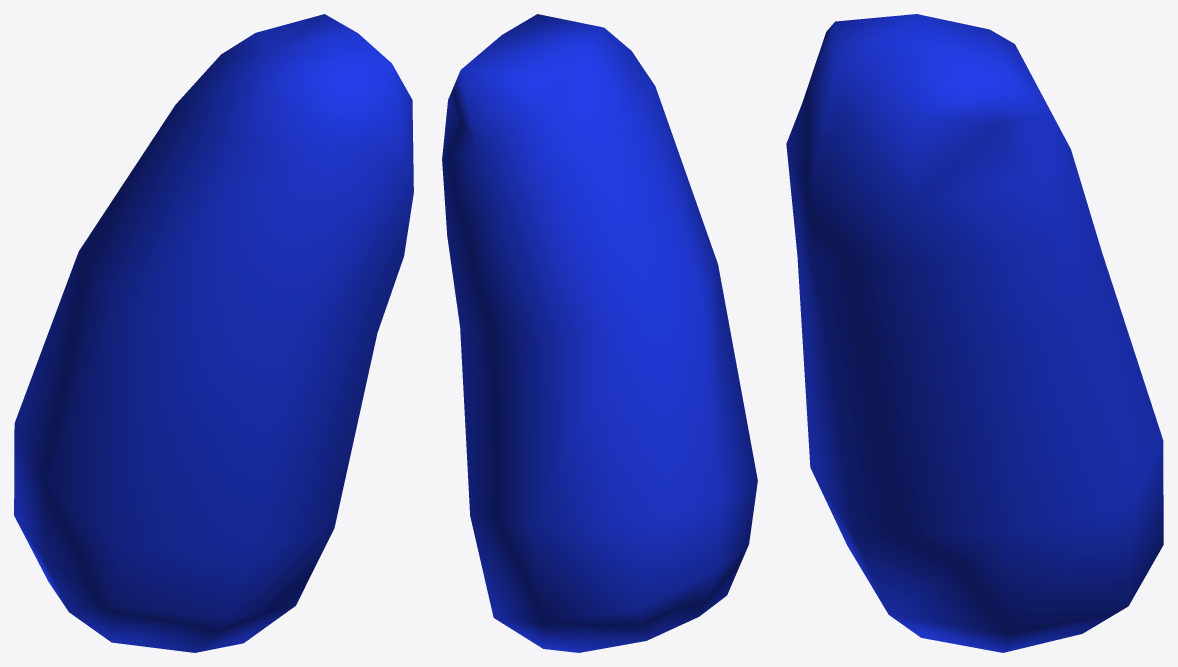
Rendered from Overcoat rightupper.fbx.
3 views of the same model, side by side, from view 1: azimuth 30°, elevation 25°; view 2: azimuth 150°, elevation 25°; view 3: azimuth 270°, elevation 25° (orthographic). The views are drawn at different scales.
Parts seen in each view (by area): view 1: LeftUpperLongSleeve.001; view 2: LeftUpperLongSleeve.001; view 3: LeftUpperLongSleeve.001.
Part boxes in pixels (x1,y1,x2,y2): LeftUpperLongSleeve.001: (14,14,413,652); LeftUpperLongSleeve.001: (442,14,757,652); LeftUpperLongSleeve.001: (786,14,1163,652).
Bounding box in the file's own units: 26.62 × 49.47 × 26.14.
